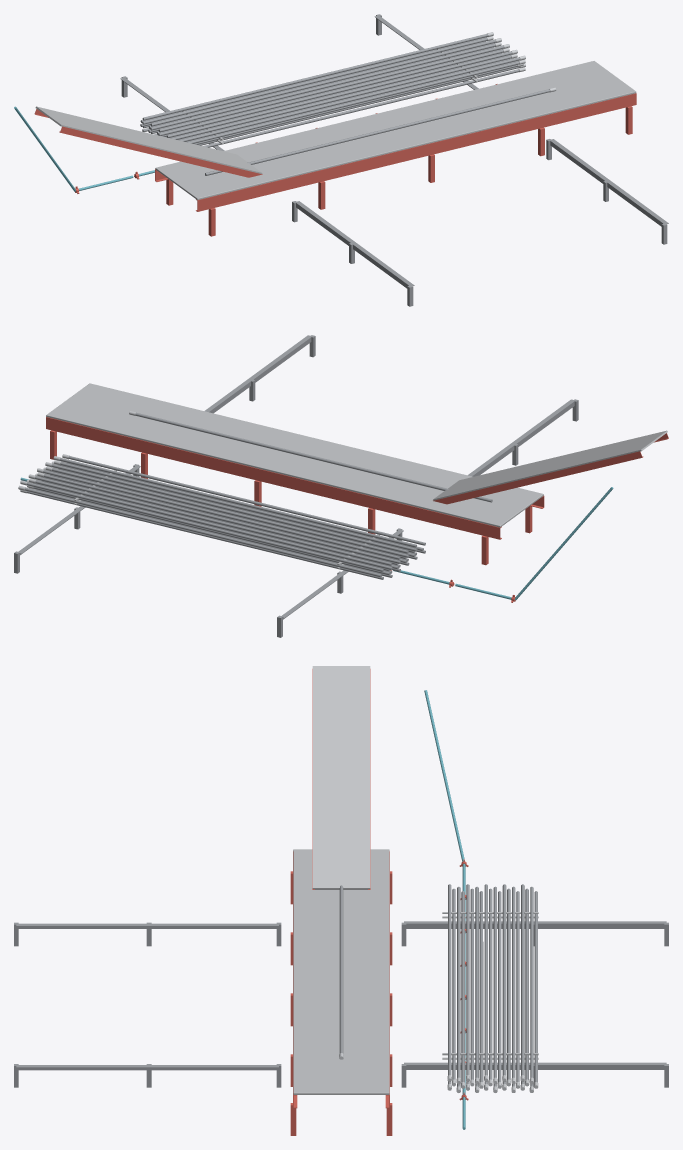
File: sk575_planchada.glb
3 views of the same model, one above another, from view 1: azimuth 30°, elevation 25°; view 2: azimuth 150°, elevation 25°; view 3: azimuth 270°, elevation 25° (orthographic). The views are drawn at different scales.
Parts seen in each view (by area): view 1: sk575_planchada_acero_oscuro, sk575_planchada_grating, sk575_planchada_rojo, sk575_planchada_azul; view 2: sk575_planchada_acero_oscuro, sk575_planchada_grating, sk575_planchada_rojo, sk575_planchada_azul, sk575_planchada_acero; view 3: sk575_planchada_grating, sk575_planchada_acero_oscuro, sk575_planchada_rojo, sk575_planchada_azul, sk575_planchada_acero.
Part boxes in pixels (x1,y1,x2,y2): sk575_planchada_acero_oscuro: (120,14,668,306); sk575_planchada_grating: (35,48,636,200); sk575_planchada_rojo: (34,84,636,236); sk575_planchada_azul: (14,106,154,191); sk575_planchada_acero_oscuro: (14,335,578,637); sk575_planchada_grating: (46,383,667,568); sk575_planchada_rojo: (46,417,668,602); sk575_planchada_azul: (20,477,613,600); sk575_planchada_acero: (18,411,136,493); sk575_planchada_grating: (293,666,538,1094); sk575_planchada_acero_oscuro: (14,884,668,1087); sk575_planchada_rojo: (290,669,468,1135); sk575_planchada_azul: (424,690,465,1129); sk575_planchada_acero: (339,1053,538,1092).
Size of the model in its own units: 15.53 by 3.62 by 13.62.
